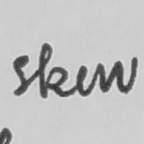e: (74, 62, 91, 98)
k: (37, 42, 70, 101)
s: (11, 53, 31, 100)
w: (94, 55, 139, 95)
